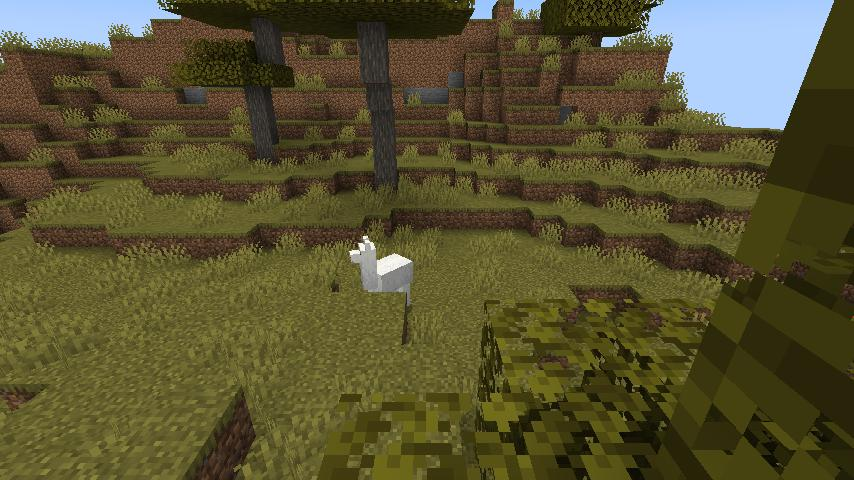llama: (347, 233, 415, 311)
